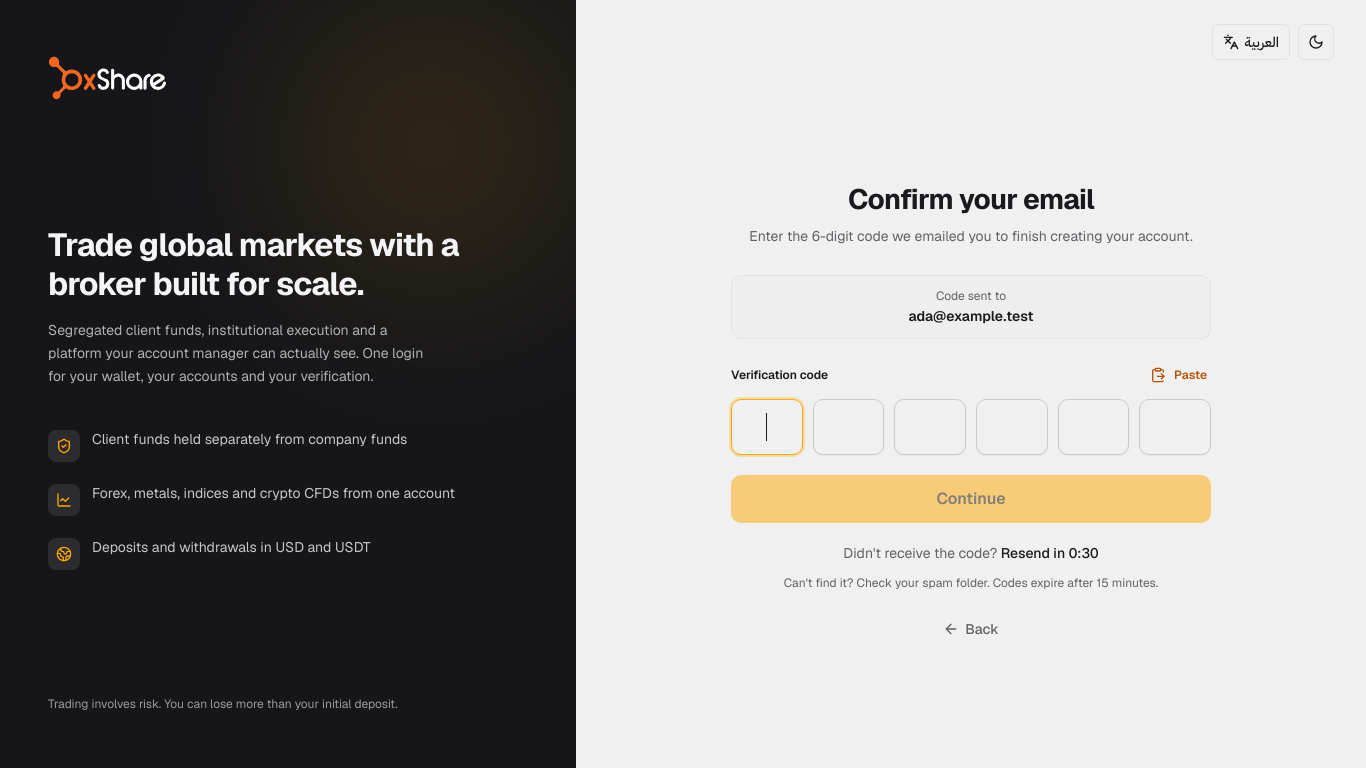
a wrong code › says so, clears the boxes for the next try, and keeps the address
This screenshot has width=1366, height=768.
Type "111111" into the field labelled "Verification code". click: (971, 427)
box: x1=731 y1=399 x2=1211 y2=455
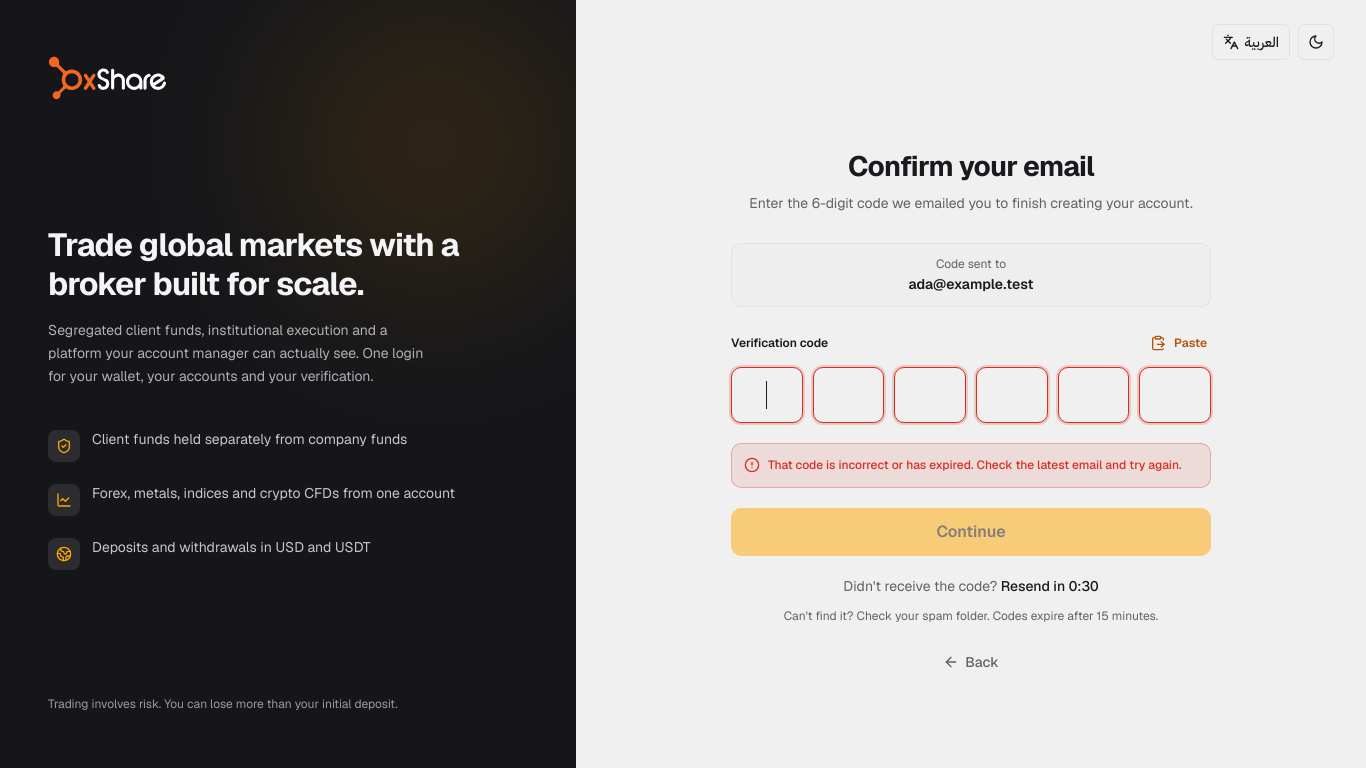
Expected: the field labelled "Verification code" is empty, x1=731 y1=367 x2=1211 y2=423
Result: the message shows "incorrect or has expired" at x1=768 y1=457 x2=1182 y2=473
